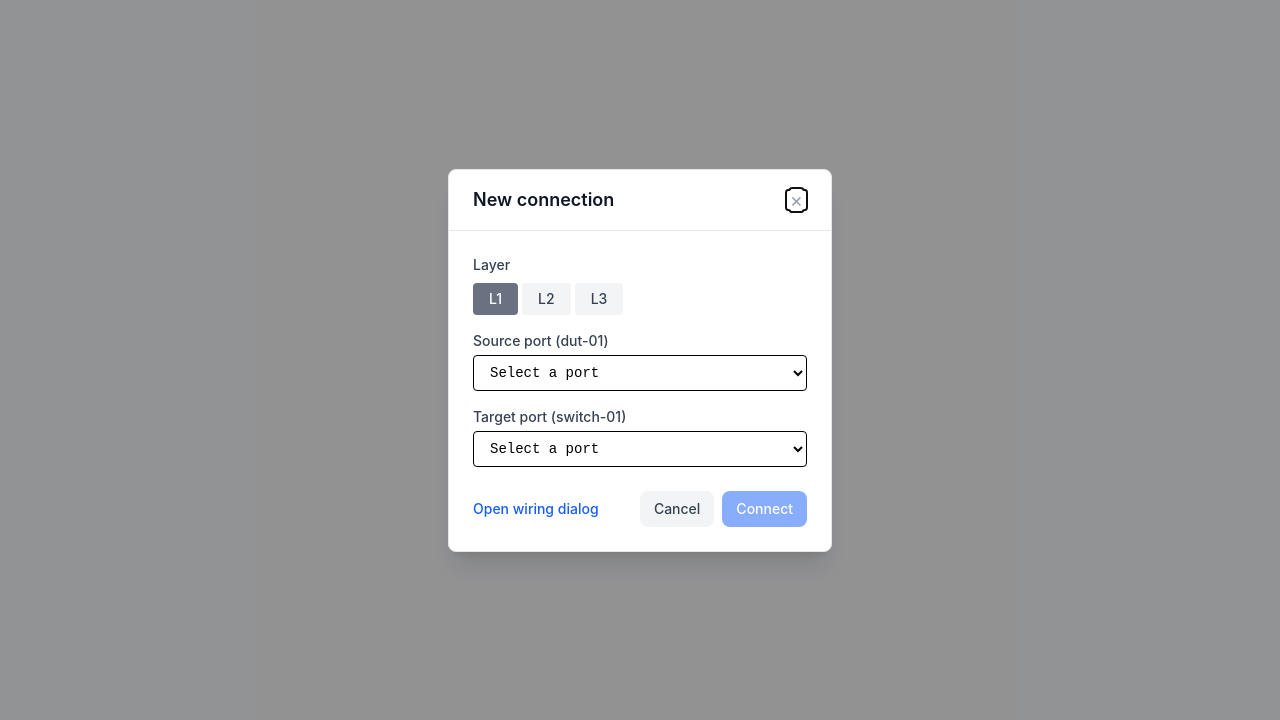
QuickConnectPopover - cabling semantics › shows warning text when a selected source port is uncabled
This screenshot has width=1280, height=720.
Select "eth1 (no cable)" in the dropdown below "Source port (" at (640, 372), box left=473, top=354, right=807, bottom=390
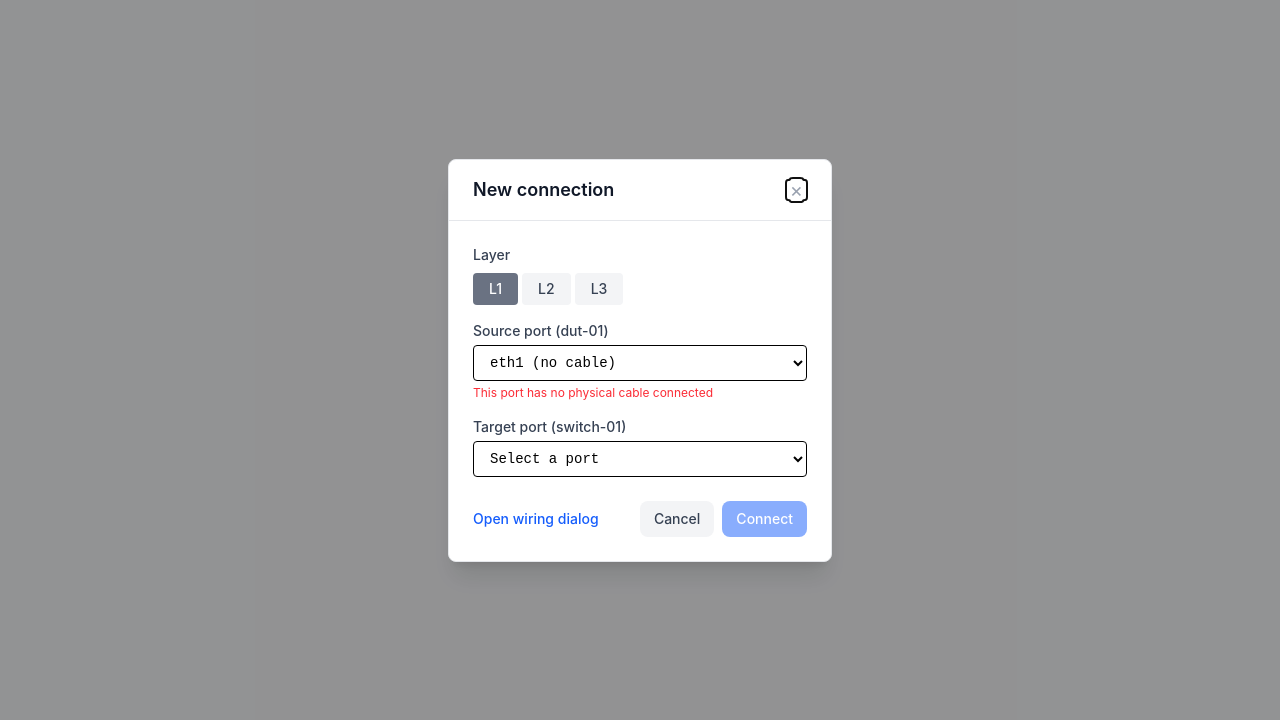
Expected: the text "This port has no physical cable connected" is shown, left=473, top=384, right=713, bottom=400
